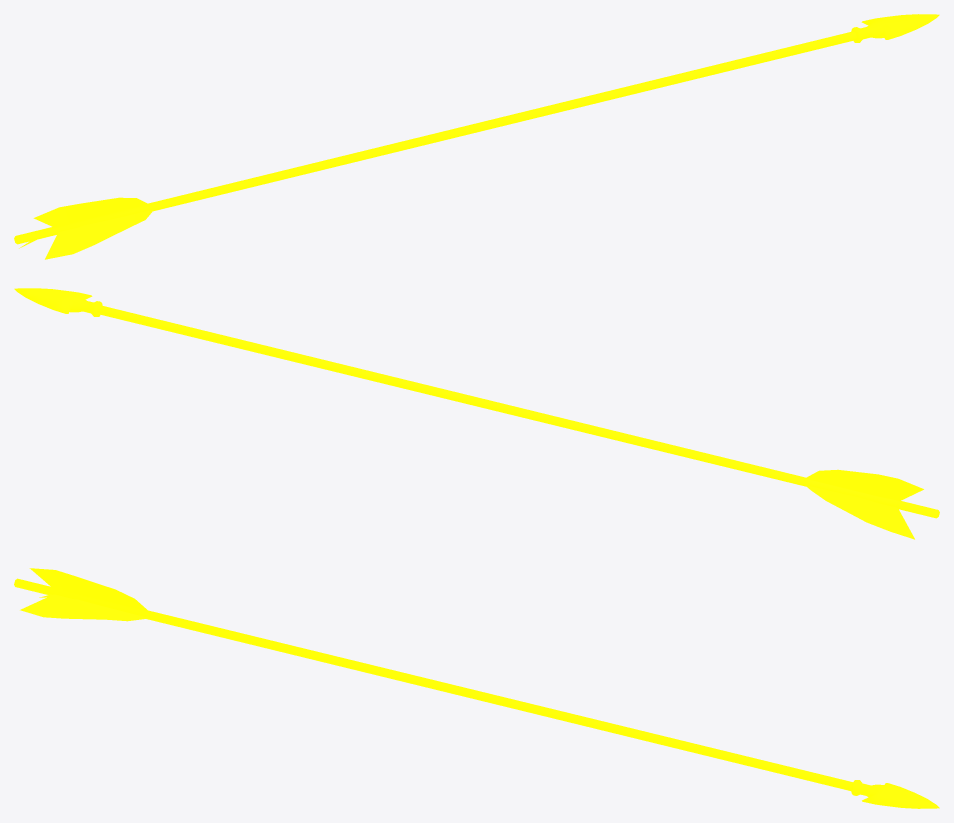
The model's file is arrow.FBX.
The picture shows the model from 3 angles, top to bottom: view 1: azimuth 30°, elevation 25°; view 2: azimuth 150°, elevation 25°; view 3: azimuth 330°, elevation 25°; orthographic projection.
Parts seen in each view (by area): view 1: arrow; view 2: arrow; view 3: arrow.
Part boxes in pixels (x1,y1,x2,y2): arrow: [14, 14, 939, 259]; arrow: [14, 288, 939, 539]; arrow: [14, 568, 939, 808].
Size of what is drawn, in the model's own units: 79.01 by 4.24 by 3.64.
